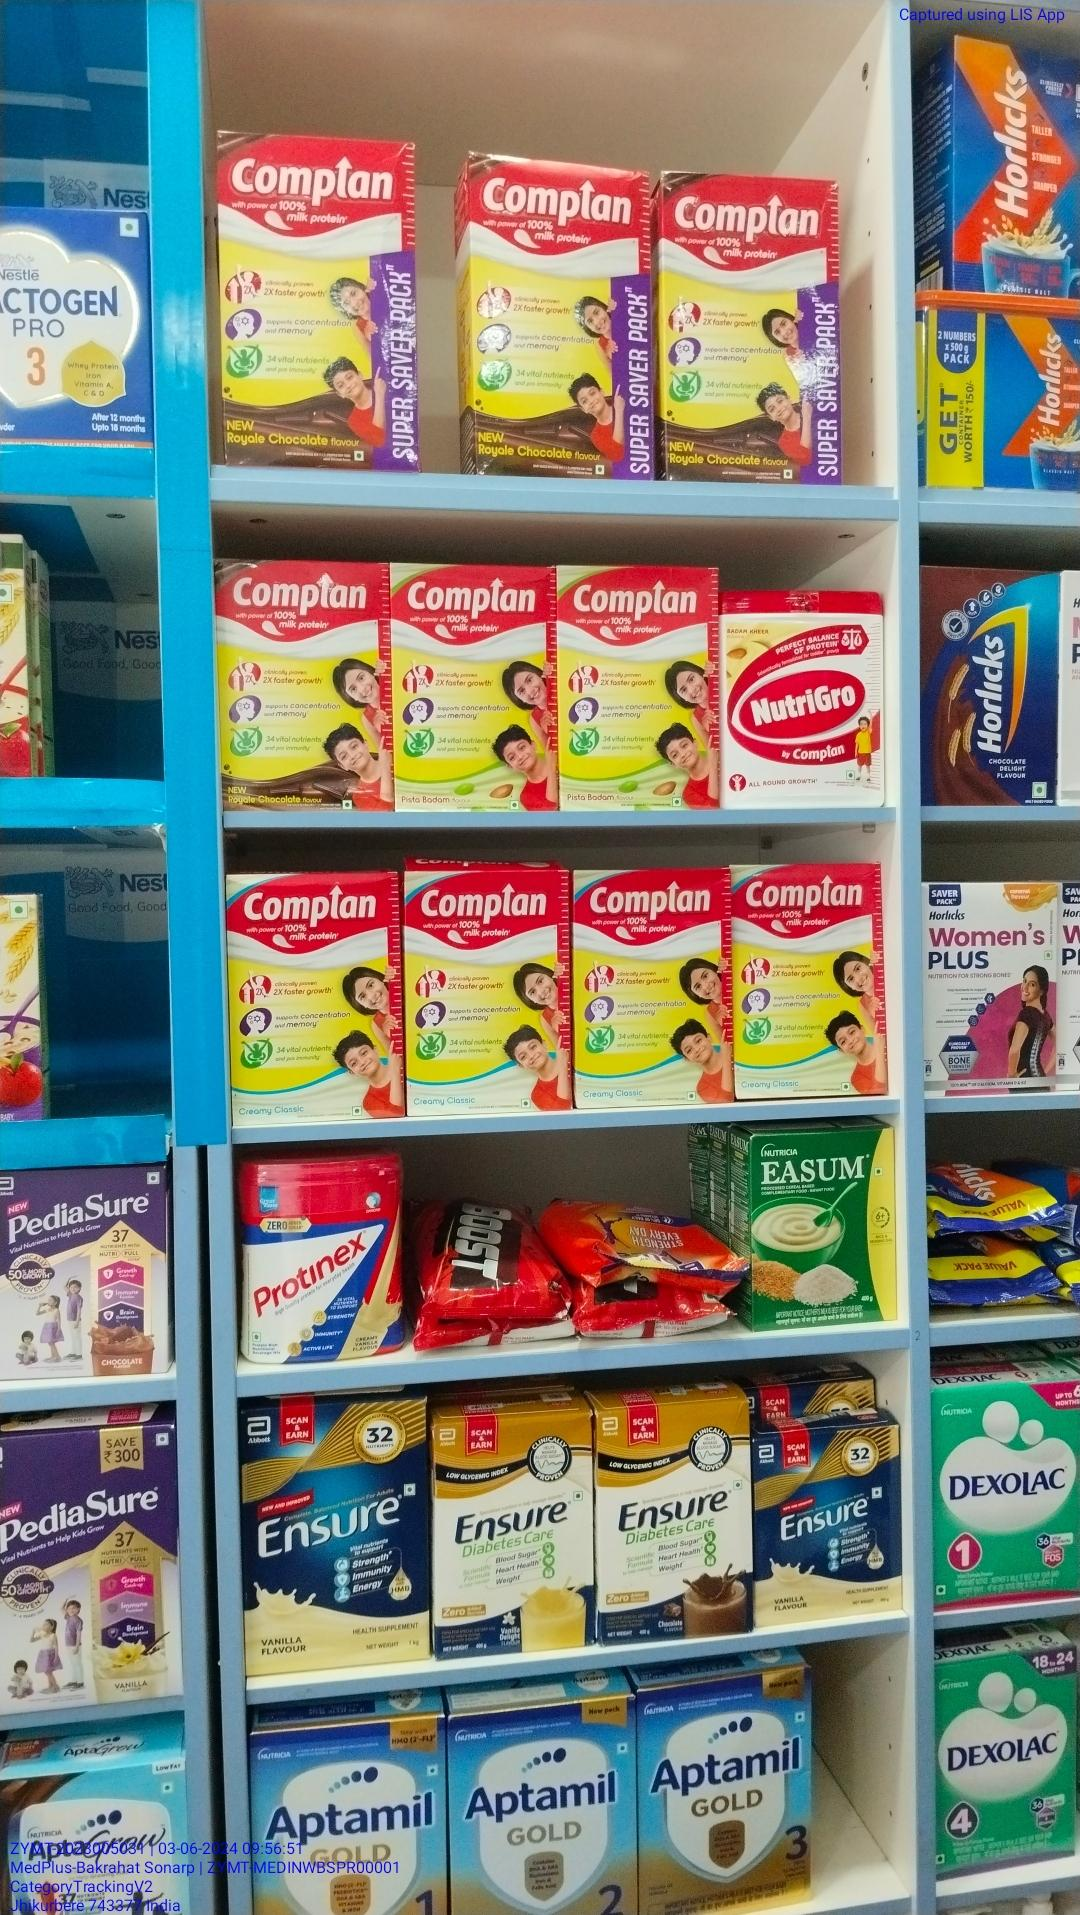COMPLAN_CREAMY_CLASSIC_500_G_PACK: (229, 875, 403, 1119), (409, 872, 570, 1111), (575, 868, 730, 1103), (739, 864, 884, 1093)
COMPLAN_PISTA_BADAM_500_GMS_PACK: (391, 564, 555, 812), (560, 566, 714, 812)
PROTINEX_VANILLA_400_G_JAR: (243, 1160, 403, 1357)
